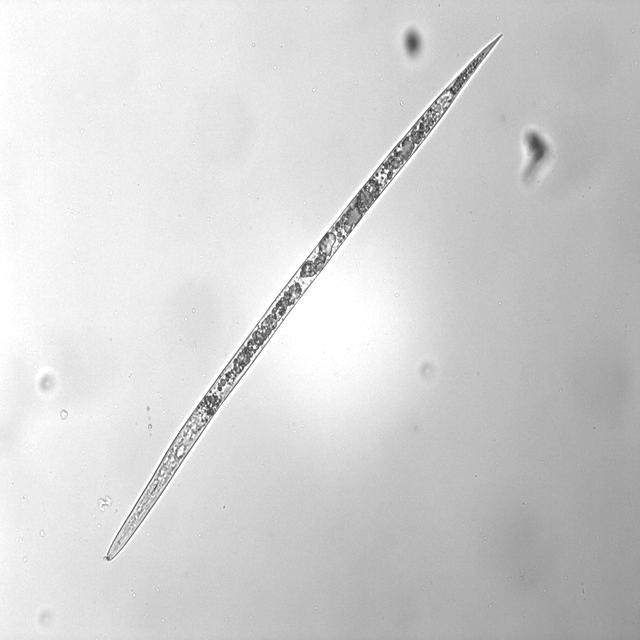Meloidogyne: (98, 28, 509, 562)
